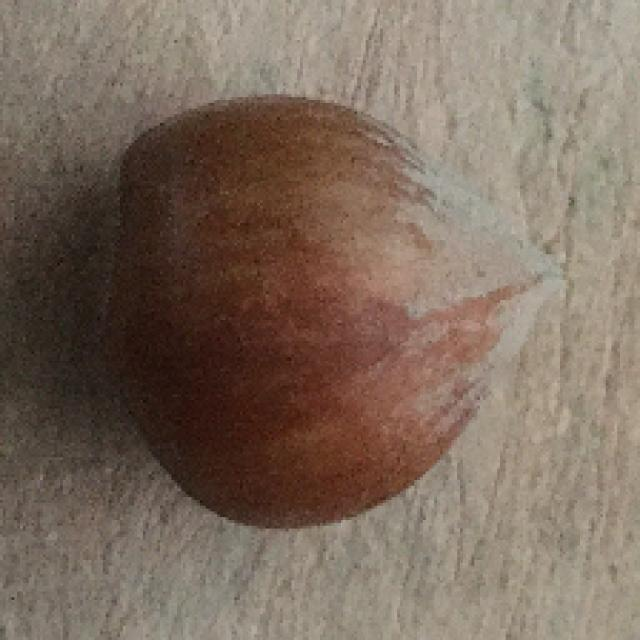qualityHazelnut: (98, 92, 563, 534)
